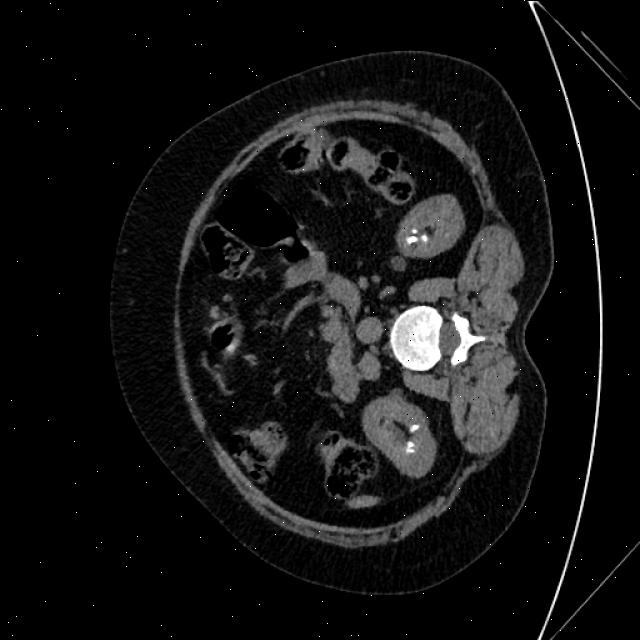kidneystone: (421, 228, 428, 241), (407, 441, 414, 452), (406, 236, 417, 242), (410, 424, 418, 431), (411, 229, 417, 232)
